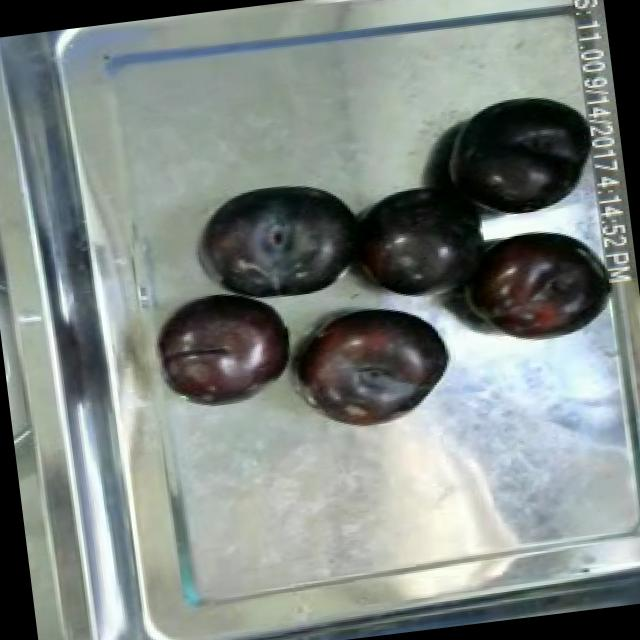Fruit: (276, 288, 468, 440), (184, 168, 376, 311), (431, 84, 601, 230), (338, 168, 502, 314), (450, 214, 612, 358), (144, 276, 302, 414)
